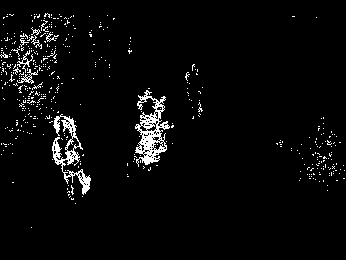person: (51, 114, 91, 203), (181, 65, 207, 120)
